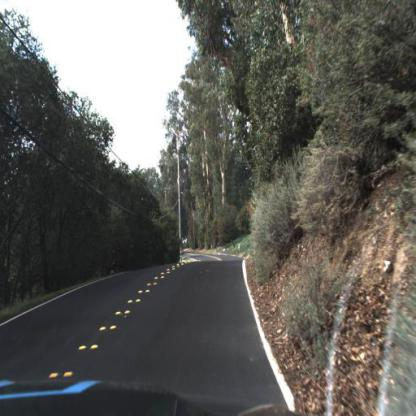car: (181, 234, 194, 252)
